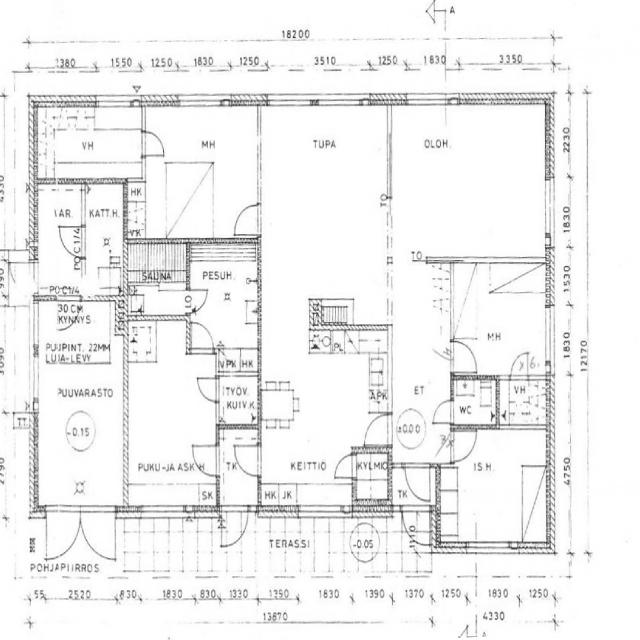door: (46, 506, 81, 563), (81, 506, 116, 563), (402, 506, 430, 554), (221, 506, 248, 552), (6, 262, 39, 294), (57, 226, 86, 258), (405, 464, 430, 501), (57, 295, 81, 332), (450, 431, 478, 462), (450, 341, 478, 372), (234, 205, 261, 235), (365, 415, 392, 444), (235, 446, 261, 476), (193, 446, 219, 476), (192, 320, 213, 354), (142, 132, 164, 156), (334, 455, 356, 478), (186, 290, 207, 314), (198, 378, 219, 402), (433, 400, 454, 423), (511, 352, 528, 379)
